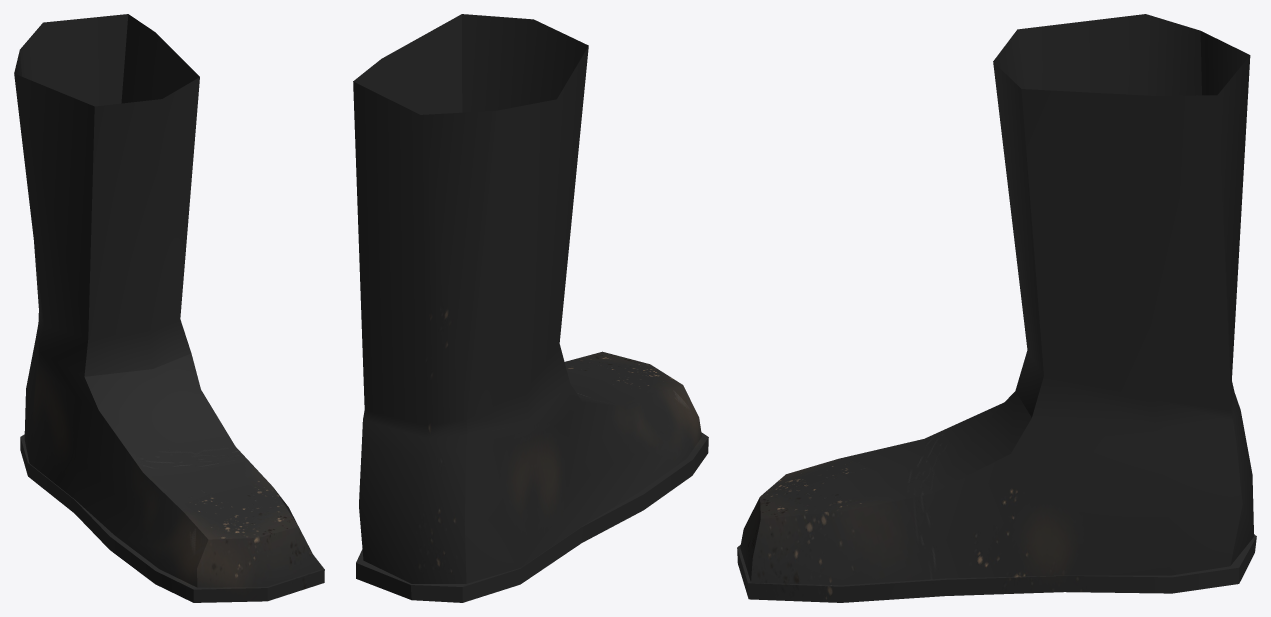
The model's file is gentShoe_R.fbx.
The picture shows the model from 3 angles, left to right: view 1: azimuth 30°, elevation 25°; view 2: azimuth 150°, elevation 25°; view 3: azimuth 270°, elevation 25°; orthographic projection. The views are drawn at different scales.
Visible parts, largest first — view 1: polySurface2; view 2: polySurface2; view 3: polySurface2.
Boxes of the visible parts, x1,y1,x2,y2 form: polySurface2: [14, 14, 324, 602]; polySurface2: [353, 14, 708, 602]; polySurface2: [737, 14, 1256, 602].
Bounding box in the file's own units: 11.7 × 30.52 × 28.47.
1 material, 1 textured.
